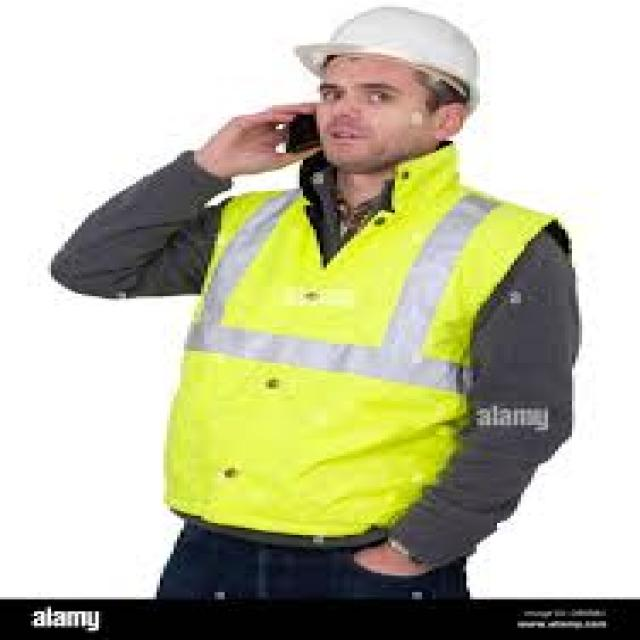Reflective-Jacket: (143, 165, 579, 544)
Safety-Helmet: (276, 2, 497, 103)
